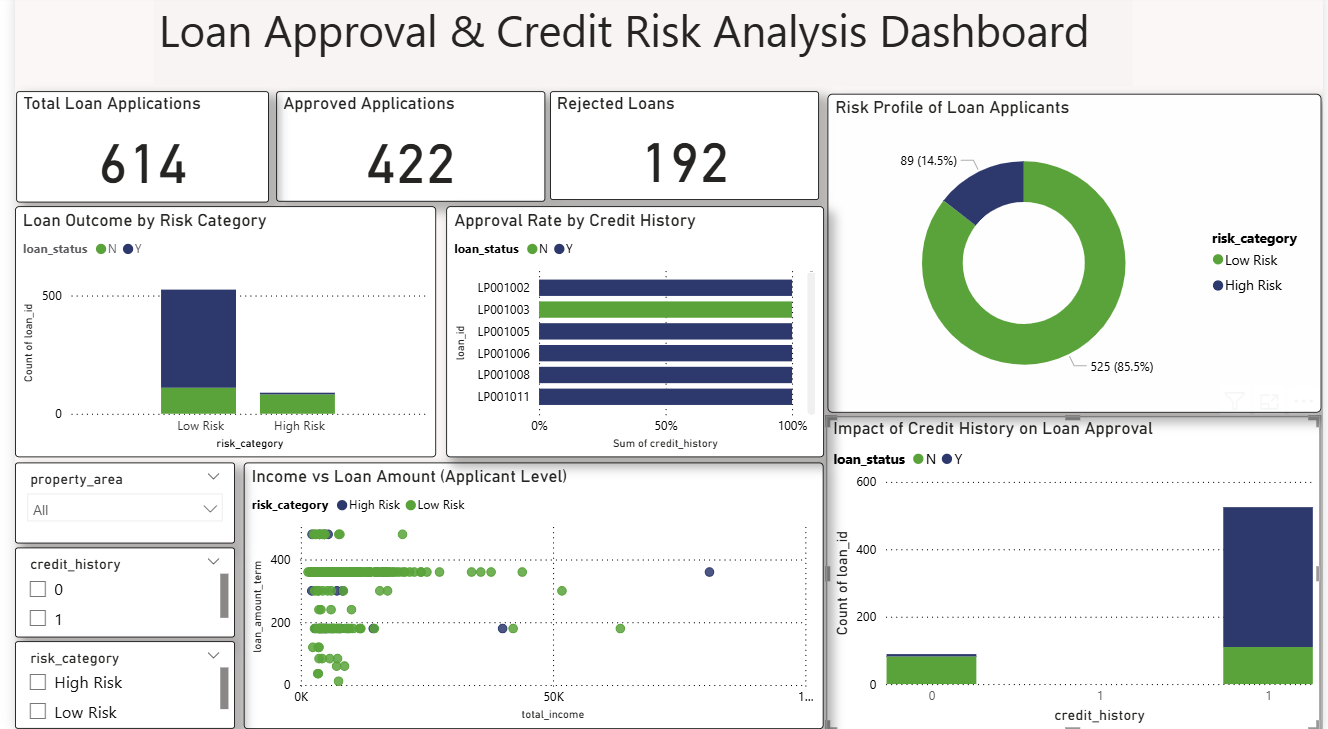

Layout of this report page (visuals, bound fields, positions):
{"tool":"powerbi","page":{"name":"Page 1","canvas":[1280,720],"ordinal":0},"visuals":[{"type":"card","title":"Approved Applications","fields":{"Values":["CountNonNull(final_loan_risk_dataset.loan_id)"]},"box":[255.6,94.2,262.9,107.6],"z":0},{"type":"card","title":"Total Loan Applications","fields":{"Values":["CountNonNull(final_loan_risk_dataset.loan_id)"]},"box":[1.2,94.2,247,108.8],"z":1000},{"type":"card","title":"Rejected Loans","fields":{"Values":["CountNonNull(final_loan_risk_dataset.loan_id)"]},"box":[523.4,94.2,262.9,106.4],"z":2000},{"type":"textbox","box":[135.7,0,957.5,89.3],"z":3000},{"type":"columnChart","title":"Impact of Credit History on Loan Approval","fields":{"Series":["final_loan_risk_dataset.loan_status"],"Y":["CountNonNull(final_loan_risk_dataset.loan_id)"],"Category":["final_loan_risk_dataset.credit_history"]},"box":[793.6,411.8,483,308.2],"z":4000},{"type":"scatterChart","title":"Income vs Loan Amount (Applicant Level)","fields":{"X":["final_loan_risk_dataset.total_income"],"Y":["final_loan_risk_dataset.loan_amount_term"],"Series":["final_loan_risk_dataset.risk_category"]},"box":[223.8,457.3,567.4,260.5],"z":5000},{"type":"slicer","fields":{"Values":["final_loan_risk_dataset.property_area"]},"box":[0,457.3,215.2,79.5],"z":6000},{"type":"slicer","fields":{"Values":["final_loan_risk_dataset.credit_history"]},"box":[0,540.5,215.2,88],"z":7000},{"type":"slicer","fields":{"Values":["final_loan_risk_dataset.risk_category"]},"box":[0,632.2,215.2,85.6],"z":8000},{"type":"columnChart","title":"Loan Outcome by Risk Category","fields":{"Category":["final_loan_risk_dataset.risk_category"],"Series":["final_loan_risk_dataset.loan_status"],"Y":["CountNonNull(final_loan_risk_dataset.loan_id)"]},"box":[0,206.7,412.1,245.8],"z":9000},{"type":"donutChart","title":"Risk Profile of Loan Applicants","fields":{"Category":["final_loan_risk_dataset.risk_category"],"Y":["CountNonNull(final_loan_risk_dataset.loan_id)"]},"box":[794.8,96.6,483,311.8],"z":9001},{"type":"hundredPercentStackedBarChart","title":"Approval Rate by Credit History","fields":{"Y":["Sum(final_loan_risk_dataset.credit_history)"],"Series":["final_loan_risk_dataset.loan_status"],"Category":["final_loan_risk_dataset.loan_id"]},"box":[421.9,206.7,369.3,245.8],"z":9002}]}

Visuals, with their boxes in screenshot pixels (x1, y1, x2, y2), scaled from the page's 1280x720 canvas onto the 1328x729 screenshot:
"Approved Applications" card: (x1=265, y1=95, x2=538, y2=204)
"Total Loan Applications" card: (x1=1, y1=95, x2=258, y2=206)
"Rejected Loans" card: (x1=543, y1=95, x2=816, y2=203)
textbox: (x1=141, y1=0, x2=1134, y2=90)
"Impact of Credit History on Loan Approval" columnChart: (x1=823, y1=417, x2=1324, y2=728)
"Income vs Loan Amount (Applicant Level)" scatterChart: (x1=232, y1=463, x2=821, y2=727)
slicer - final_loan_risk_dataset.property_area: (x1=0, y1=463, x2=223, y2=544)
slicer - final_loan_risk_dataset.credit_history: (x1=0, y1=547, x2=223, y2=636)
slicer - final_loan_risk_dataset.risk_category: (x1=0, y1=640, x2=223, y2=727)
"Loan Outcome by Risk Category" columnChart: (x1=0, y1=209, x2=428, y2=458)
"Risk Profile of Loan Applicants" donutChart: (x1=825, y1=98, x2=1326, y2=414)
"Approval Rate by Credit History" hundredPercentStackedBarChart: (x1=438, y1=209, x2=821, y2=458)
